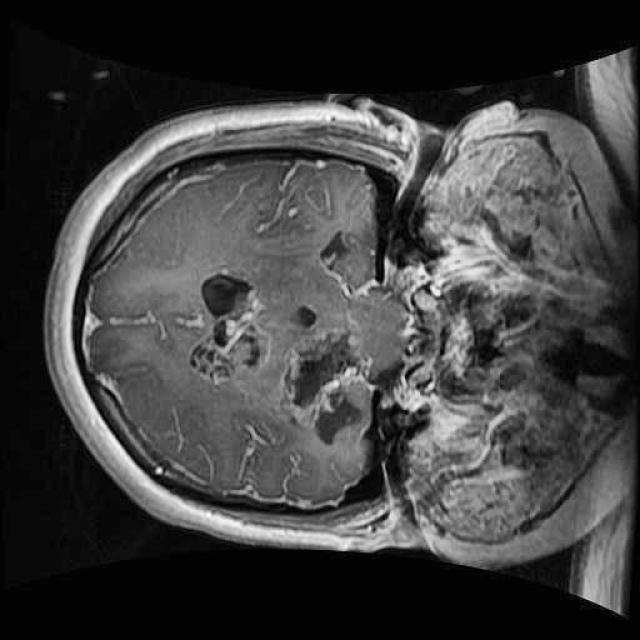Non-Tumor: (178, 256, 373, 478)
